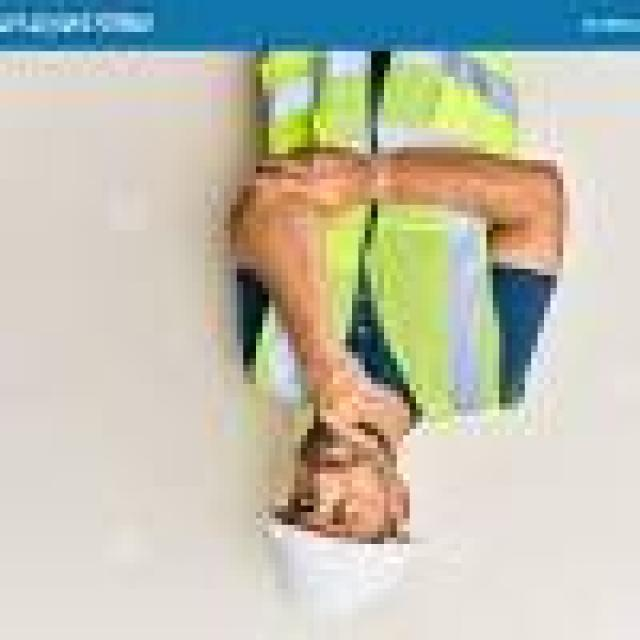safetyhelmet: (257, 461, 424, 615)
